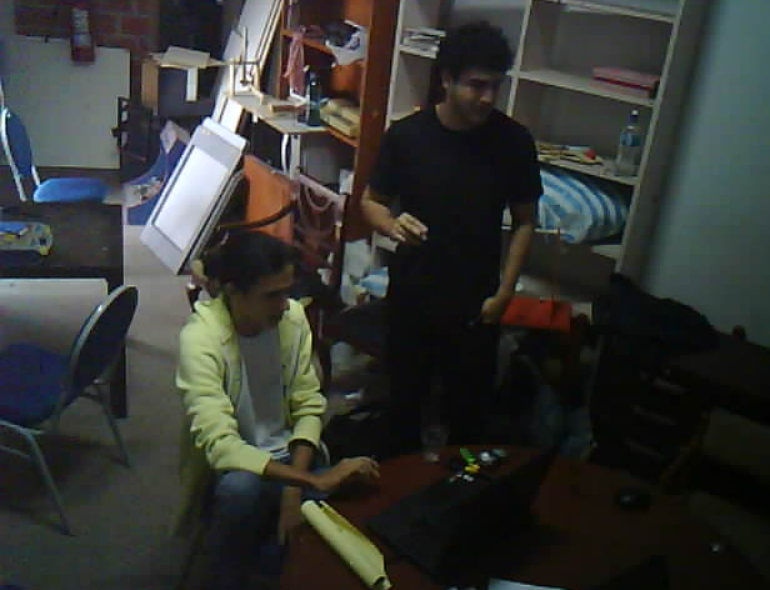person: (352, 10, 550, 442), (165, 216, 386, 590)
